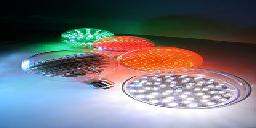LED: (123, 72, 246, 119), (118, 47, 198, 78), (61, 24, 104, 48)
